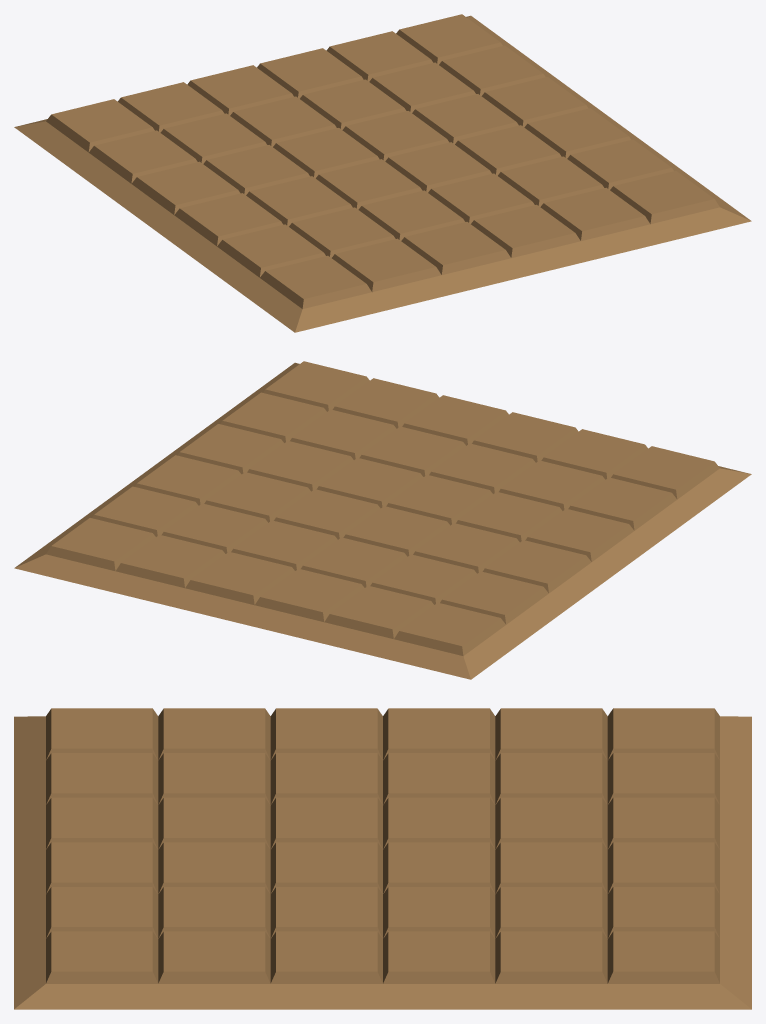
File: M_Blockout_Board.fbx
3 views of the same model, one above another, from view 1: azimuth 30°, elevation 25°; view 2: azimuth 150°, elevation 25°; view 3: azimuth 270°, elevation 25° (orthographic). The views are drawn at different scales.
Parts seen in each view (by area): view 1: Plane.001; view 2: Plane.001; view 3: Plane.001.
Boxes of the visible parts, x1=… form: Plane.001: x1=14, y1=14, x2=751, y2=332; Plane.001: x1=14, y1=361, x2=751, y2=679; Plane.001: x1=14, y1=708, x2=751, y2=1009.
Size of the model in its own units: 1614 by 59.18 by 1718.
